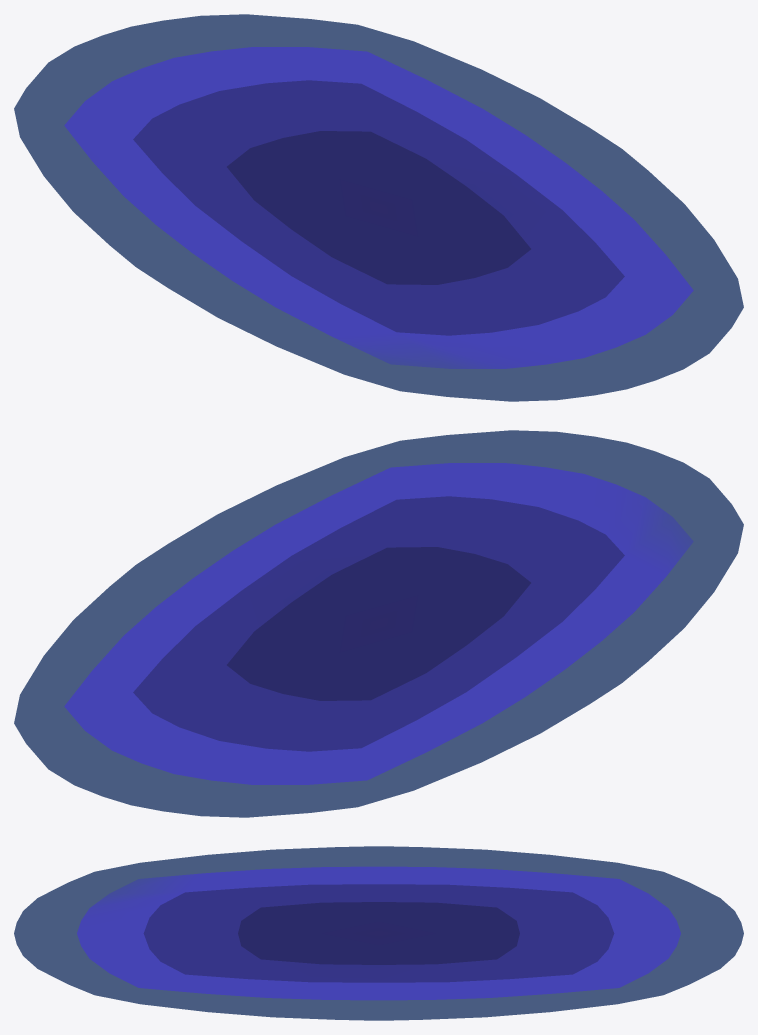
Rendered from BathRoom_03.fbx.
The picture shows the model from 3 angles, top to bottom: view 1: azimuth 30°, elevation 25°; view 2: azimuth 150°, elevation 25°; view 3: azimuth 270°, elevation 25°; orthographic projection. The views are drawn at different scales.
Visible parts, largest first — view 1: Circle.006; view 2: Circle.006; view 3: Circle.006.
Boxes of the visible parts, bbox=[...] form: Circle.006: bbox=[14, 14, 743, 401]; Circle.006: bbox=[14, 430, 743, 817]; Circle.006: bbox=[14, 846, 743, 1020].
Bounding box in the file's own units: 346 × 9.76e-05 × 611.
